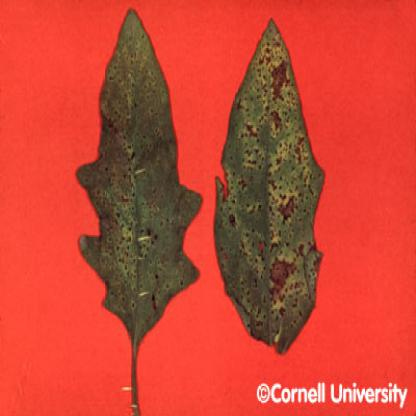tomato septoria leaf spot: (75, 8, 204, 366), (213, 5, 331, 359)
